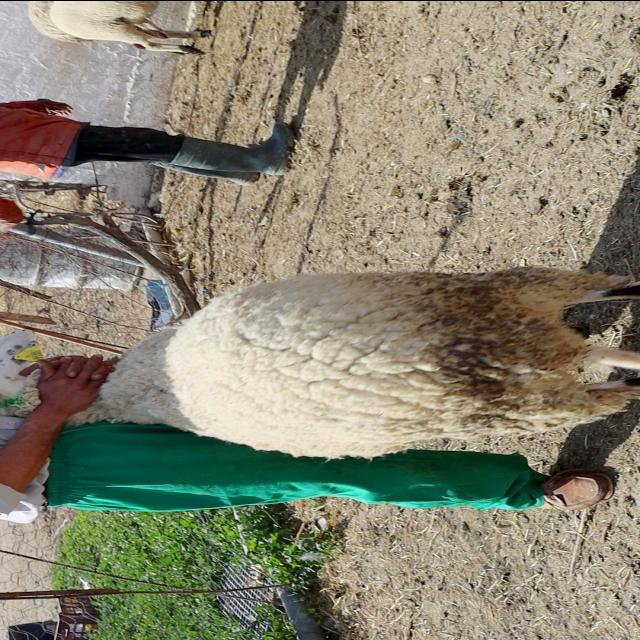Score_5: (66, 266, 639, 459)
